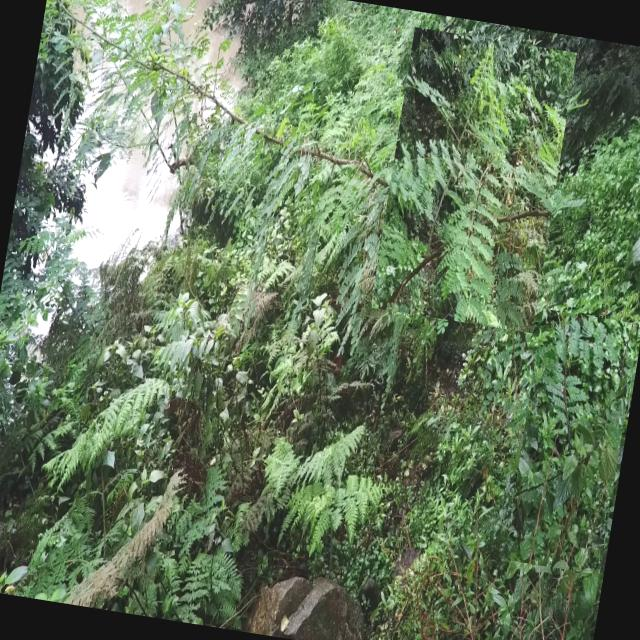Mysore-Thorn-Weed: (14, 0, 405, 260), (370, 28, 576, 334), (504, 309, 639, 575)
